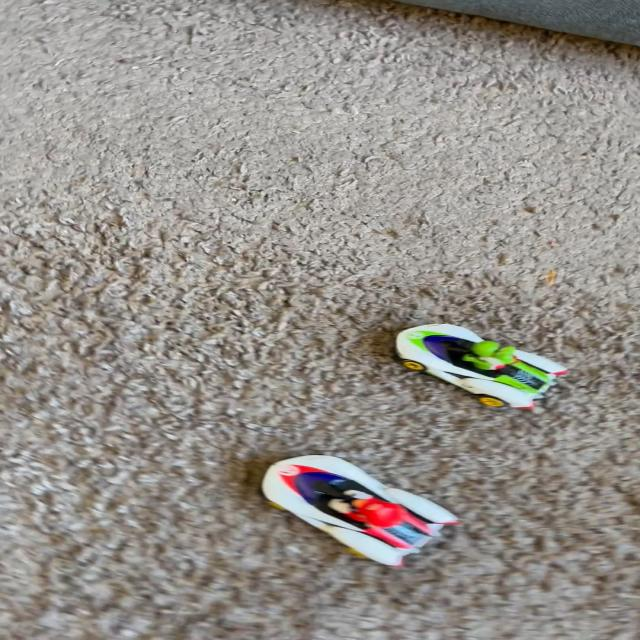mario: (237, 436, 477, 579)
yoshi: (374, 296, 589, 428)
